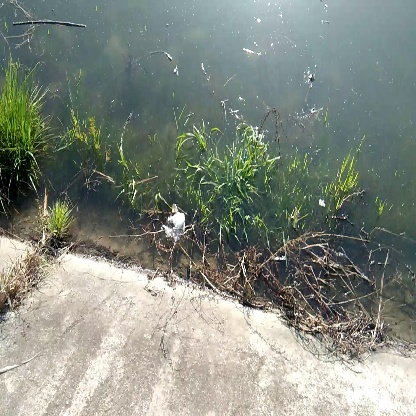grass: (1, 67, 46, 154)
